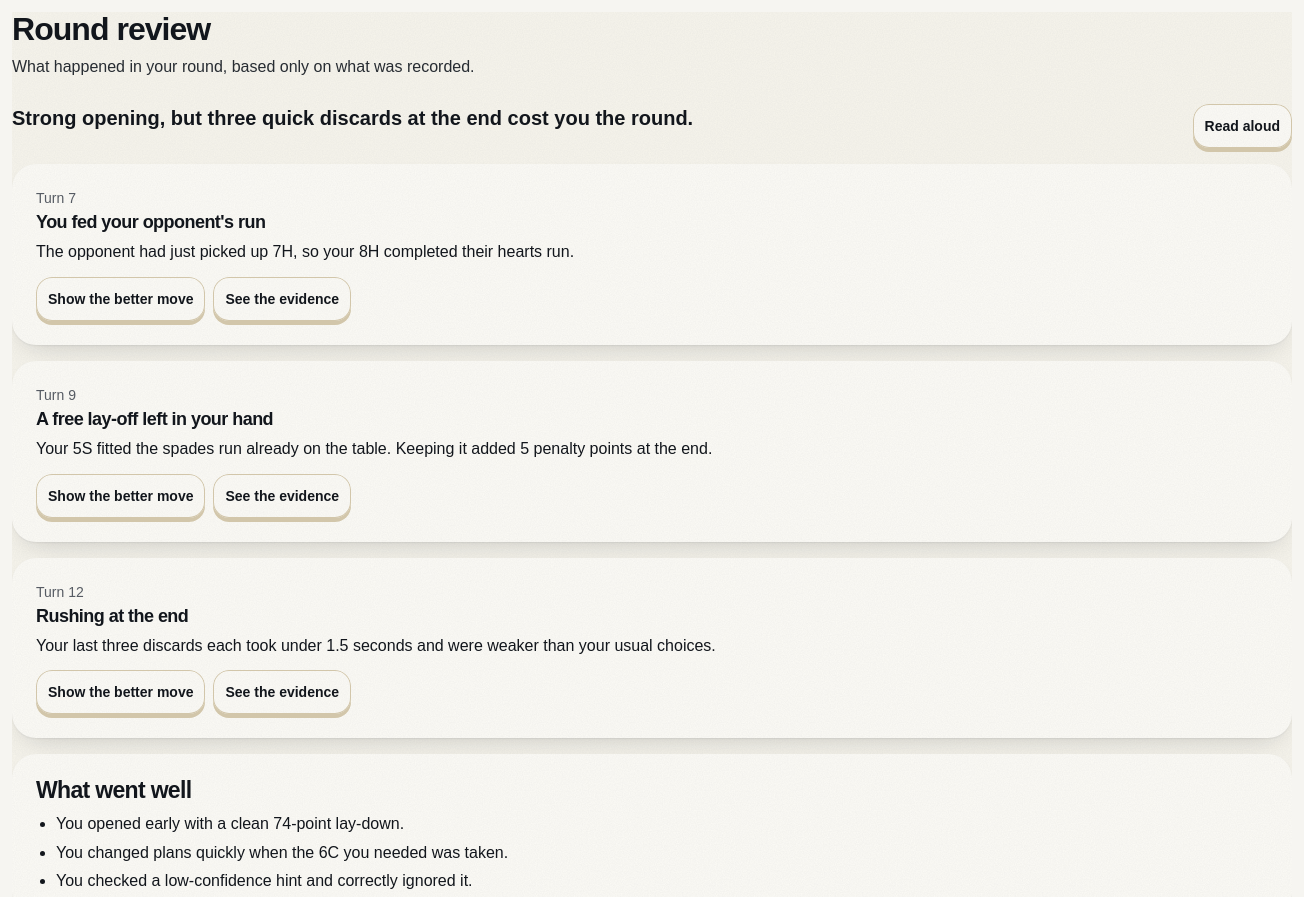
Test: round review › reveals the better move on request
The image size is (1304, 897).
Expected: the heading "You fed your opponent's run" is shown, [36,212,265,232]
Expected: the text "glance at what your opponent took from the discard pile" is not shown
What coordinates should you click on to do the following:
click the button "Show the better move" below "You fed your opponent's run"
I would click on:
 (121, 299)
Its box is [36,277,206,321].
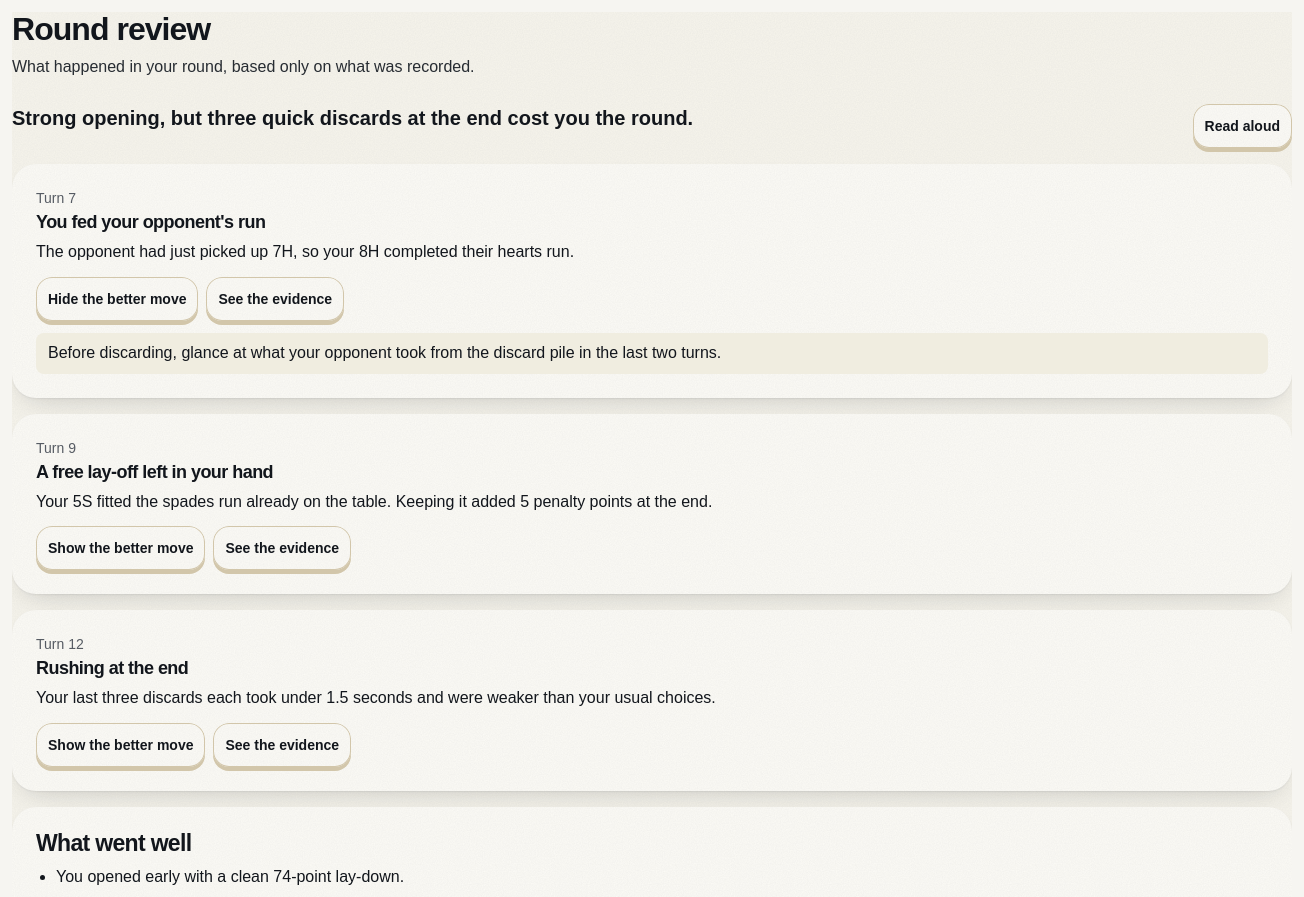
Expected: the text "glance at what your opponent took from the discard pile" is shown, [48,344,721,361]
